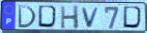7: (103, 5, 121, 30)
D: (122, 5, 145, 30), (38, 4, 60, 29), (17, 5, 38, 29)
H: (60, 5, 81, 30)
V: (81, 7, 101, 29)
